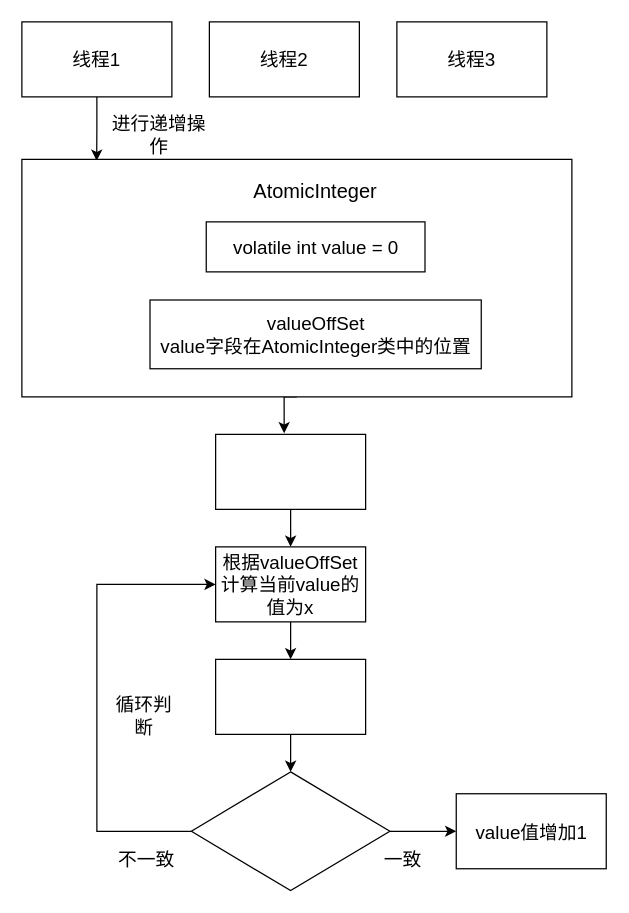
Some shapes in this 629 by 913 pixel diagram are drawn without their labels. Here are the shapes that lost their labels. From the top down, the centre of each, then its label:
At pixel 290 471: "Unsafe类".
At pixel 290 696: "底层cas复杂的步骤 （原子性）".
At pixel 290 831: "比较x和当前 value最新的值".
